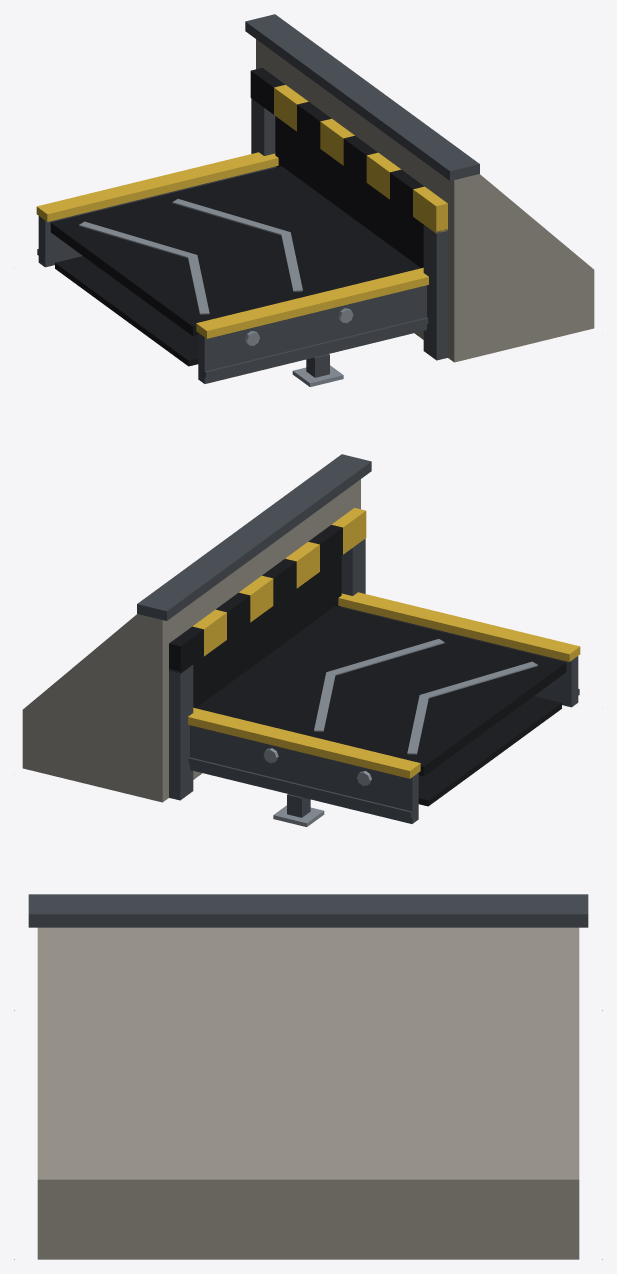
Rendered from convoyeur_tunnel_entree_t1.glb.
The picture shows the model from 3 angles, top to bottom: view 1: azimuth 30°, elevation 25°; view 2: azimuth 150°, elevation 25°; view 3: azimuth 270°, elevation 25°; orthographic projection. The views are drawn at different scales.
Parts seen in each view (by area): view 1: pieces_noir.008, pieces_acier_sombre.016, bouche.004, pieces_jaune.008, bande_acier.014, pieces_acier.016; view 2: pieces_noir.008, pieces_acier_sombre.016, bouche.004, pieces_jaune.008, bande_acier.014, pieces_acier.016; view 3: bouche.004, pieces_acier_sombre.016.
Part boxes in pixels (x1,y1,x2,y2): pieces_noir.008: (50,68,424,366); pieces_acier_sombre.016: (37,14,479,383); bouche.004: (256,39,594,362); pieces_jaune.008: (36,85,447,338); bande_acier.014: (79,199,302,314); pieces_acier.016: (245,308,353,386); pieces_noir.008: (169,525,566,806); pieces_acier_sombre.016: (137,454,579,823); bouche.004: (22,479,360,802); pieces_jaune.008: (188,508,580,778); bande_acier.014: (314,639,537,754); pieces_acier.016: (263,748,371,826); bouche.004: (37,927,579,1259); pieces_acier_sombre.016: (28,894,588,927).
Bounding box in the file's own units: 1 × 0.5 × 1.
